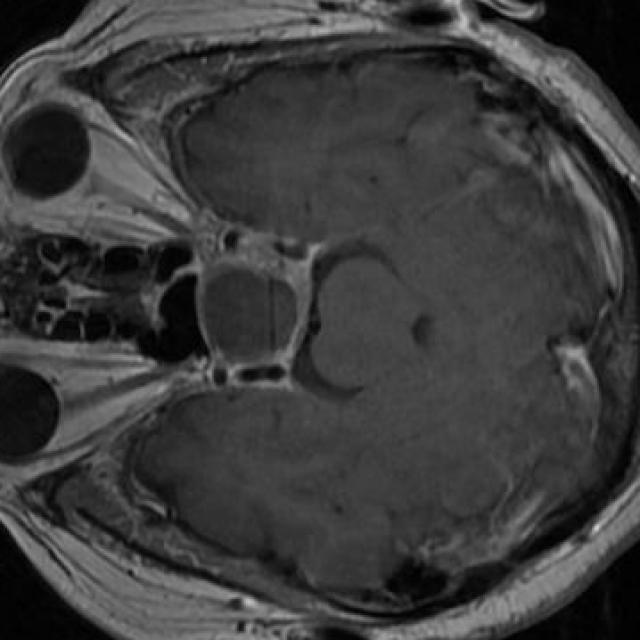pituitary: (201, 253, 301, 365)
